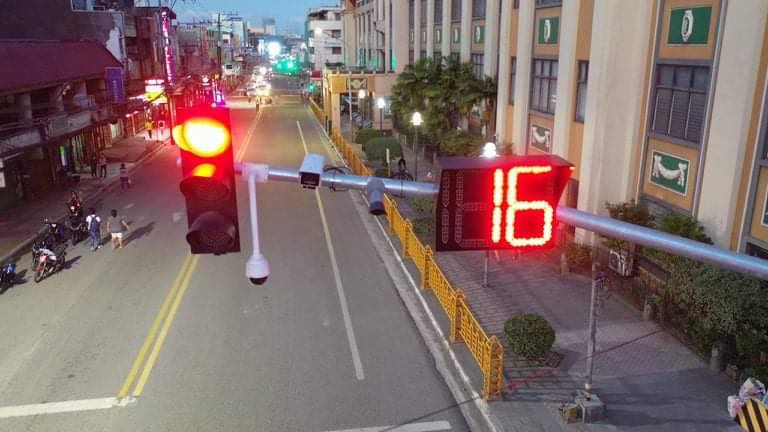bike: (32, 243, 69, 275)
person: (108, 210, 130, 248), (83, 209, 103, 250)
pole: (578, 262, 605, 424)
traffic light: (436, 154, 572, 249), (173, 106, 244, 257)
